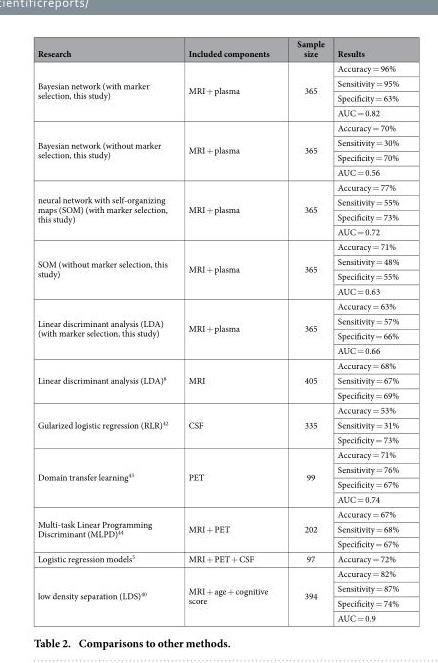table: (36, 37, 398, 623)
table column: (36, 37, 177, 623), (177, 37, 282, 623), (330, 37, 398, 623), (282, 37, 330, 623)
table column header: (36, 37, 398, 60)
table row: (36, 37, 398, 60), (36, 60, 398, 75), (36, 75, 398, 90), (36, 90, 398, 105), (36, 119, 398, 134), (36, 134, 398, 149), (36, 149, 398, 164), (36, 164, 398, 179), (36, 179, 398, 194), (36, 194, 398, 209), (36, 223, 398, 238), (36, 238, 398, 253), (36, 253, 398, 268), (36, 268, 398, 283), (36, 283, 398, 298), (36, 298, 398, 313), (36, 313, 398, 328), (36, 342, 398, 357), (36, 357, 398, 372), (36, 372, 398, 387), (36, 387, 398, 402), (36, 402, 398, 417), (36, 417, 398, 432), (36, 446, 398, 461), (36, 461, 398, 476), (36, 476, 398, 491), (36, 491, 398, 506), (36, 506, 398, 521), (36, 521, 398, 536), (36, 550, 398, 565), (36, 565, 398, 580), (36, 580, 398, 595), (36, 595, 398, 610), (36, 105, 398, 119), (36, 209, 398, 223), (36, 328, 398, 342), (36, 432, 398, 446), (36, 536, 398, 550), (36, 610, 398, 623)
table spanning cell: (36, 119, 177, 179), (36, 238, 177, 298), (36, 446, 177, 506), (36, 60, 177, 119), (36, 179, 177, 238), (36, 298, 177, 357), (36, 565, 177, 623), (36, 357, 177, 402), (177, 119, 282, 179), (177, 238, 282, 298), (177, 446, 282, 506), (36, 402, 177, 446), (36, 506, 177, 550), (177, 60, 282, 119), (177, 179, 282, 238), (177, 298, 282, 357), (177, 565, 282, 623), (177, 357, 282, 402), (177, 402, 282, 446), (177, 506, 282, 550), (282, 119, 330, 179), (282, 238, 330, 298), (282, 446, 330, 506), (282, 60, 330, 119), (282, 179, 330, 238), (282, 298, 330, 357), (282, 565, 330, 623), (282, 357, 330, 402), (282, 402, 330, 446), (282, 506, 330, 550)
